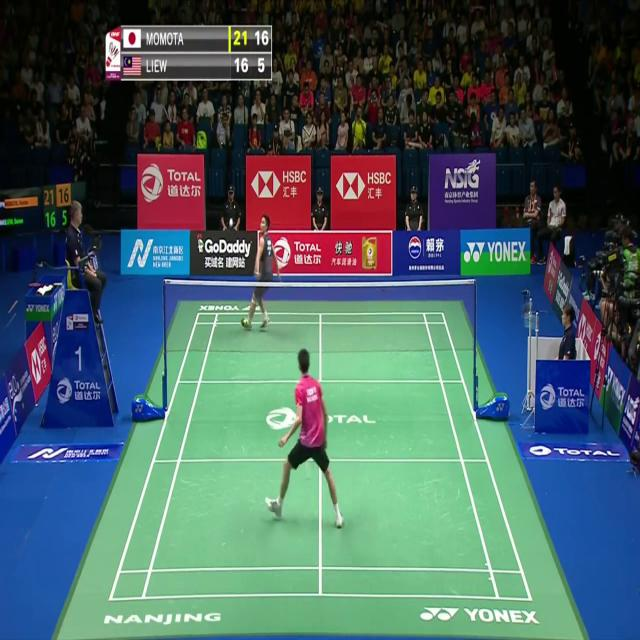Shuttlecock: (228, 216, 235, 227)
